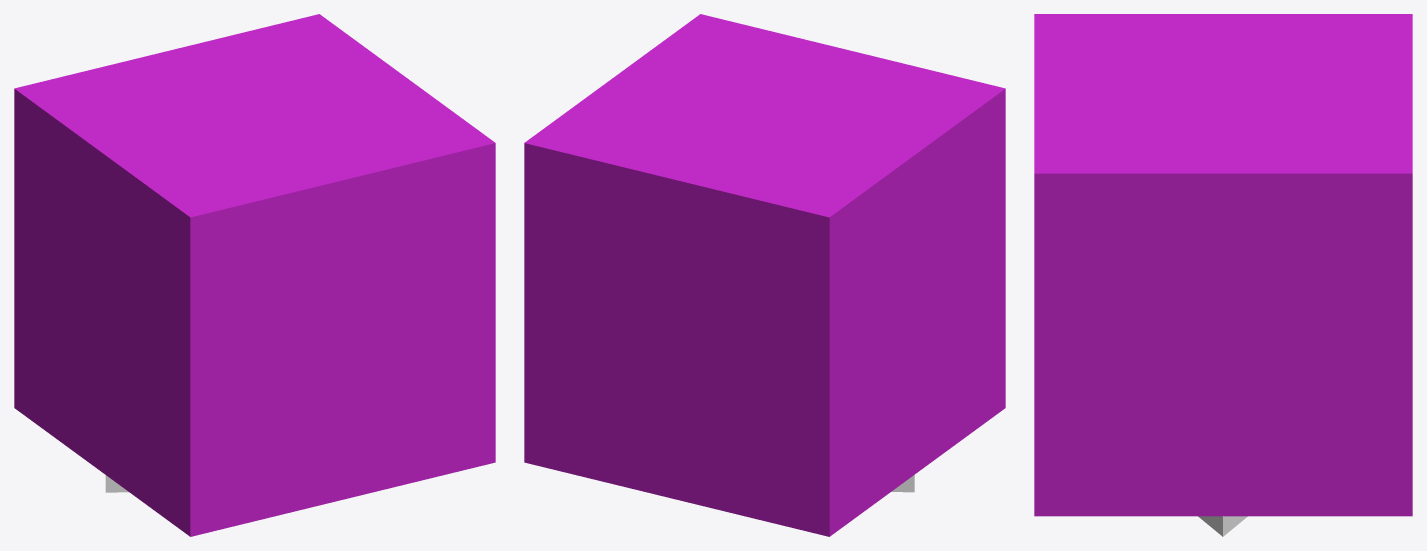
The model's file is bounce-slide.glb.
3 renders of one model, left to right at view 1: azimuth 30°, elevation 25°; view 2: azimuth 150°, elevation 25°; view 3: azimuth 270°, elevation 25°, orthographic. The views are drawn at different scales.
Parts seen in each view (by area): view 1: obj1; view 2: obj1; view 3: obj1, obj4.
Boxes of the visible parts, x1=… form: obj1: x1=14, y1=14, x2=495, y2=536; obj1: x1=524, y1=14, x2=1005, y2=536; obj1: x1=1034, y1=14, x2=1412, y2=516; obj4: x1=1198, y1=516, x2=1247, y2=536.
Size of the model in its own units: 1 by 1.07 by 1.
2 materials, 2 textured.
